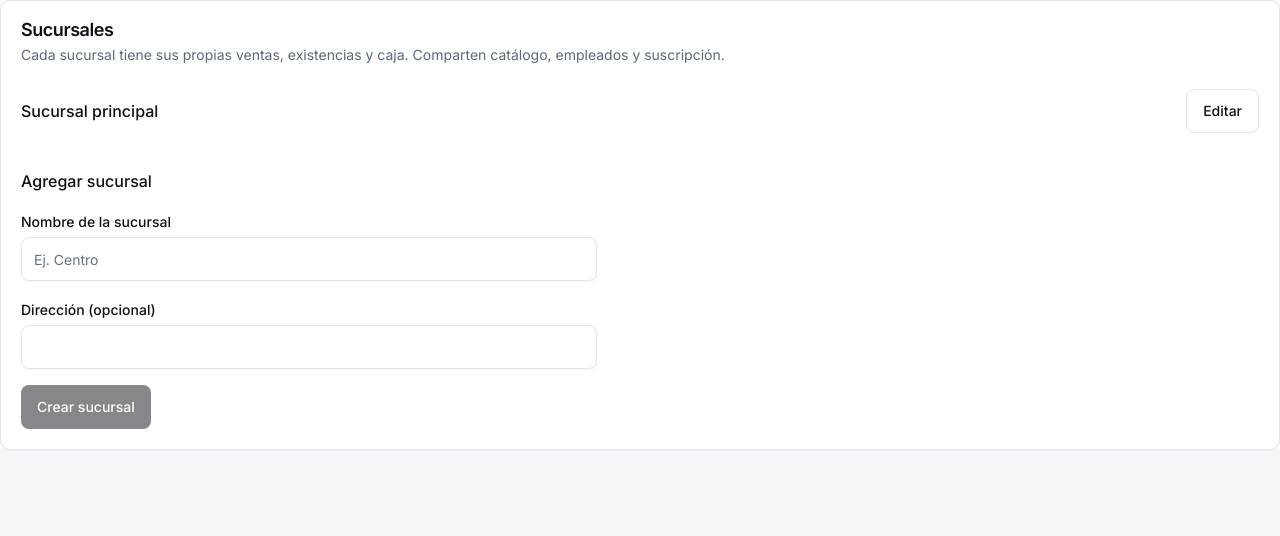
Test case: creates a location and makes it discoverable by the operating selector
The image size is (1280, 536).
Expected: the text "Sucursal principal" is shown, [21,99,158,123]
Type "Centro" into the field labelled "Nombre de la sucursal" at [309, 259], box [21,237,597,281]
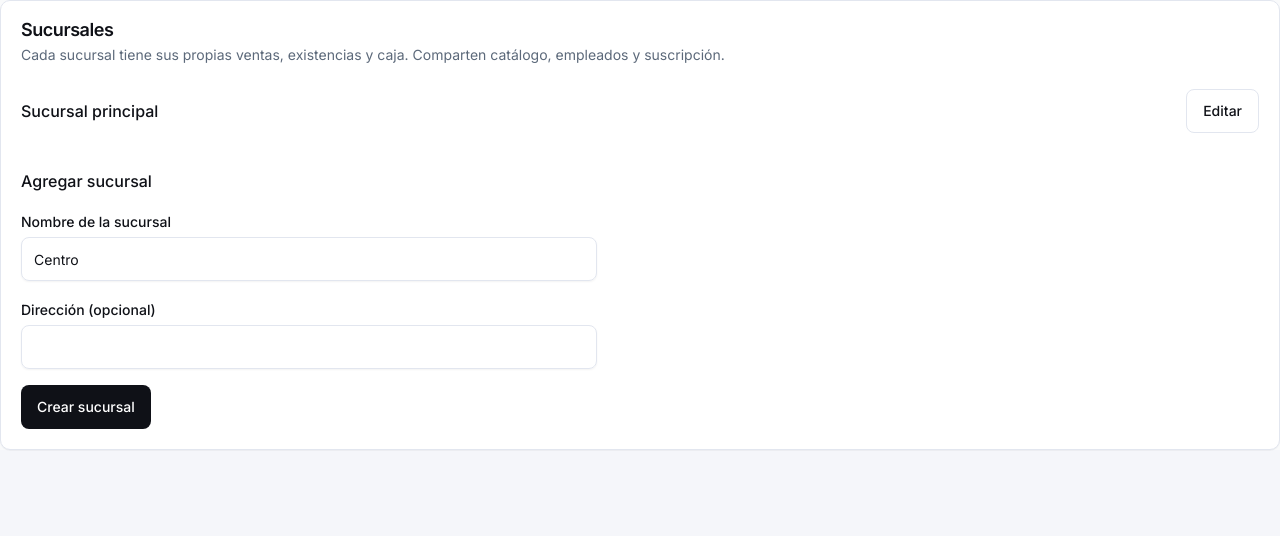
Click the button "Crear sucursal" at [86, 407], box [21,385,151,429]
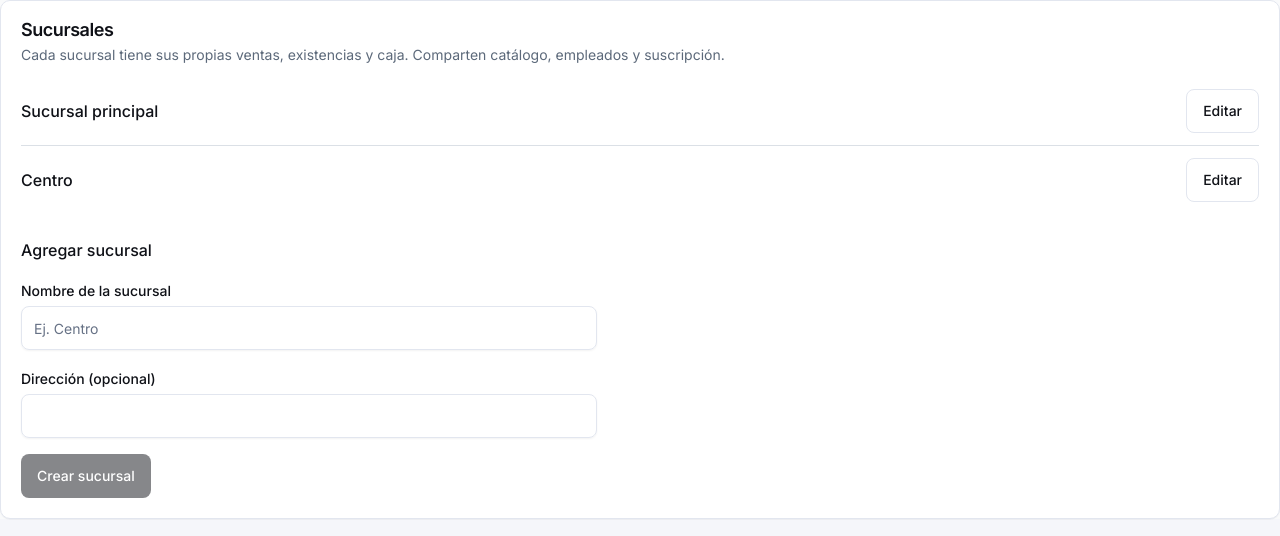
Now the text "Centro" is shown, box [21,168,73,192]
